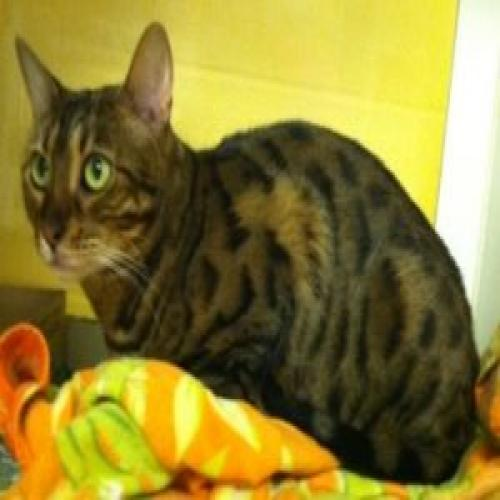bengal: (4, 10, 183, 296)
